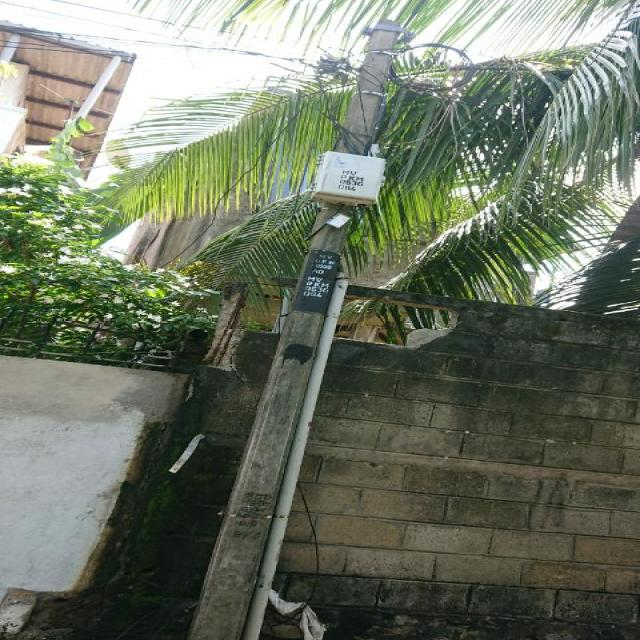light_pole: (176, 14, 424, 640)
